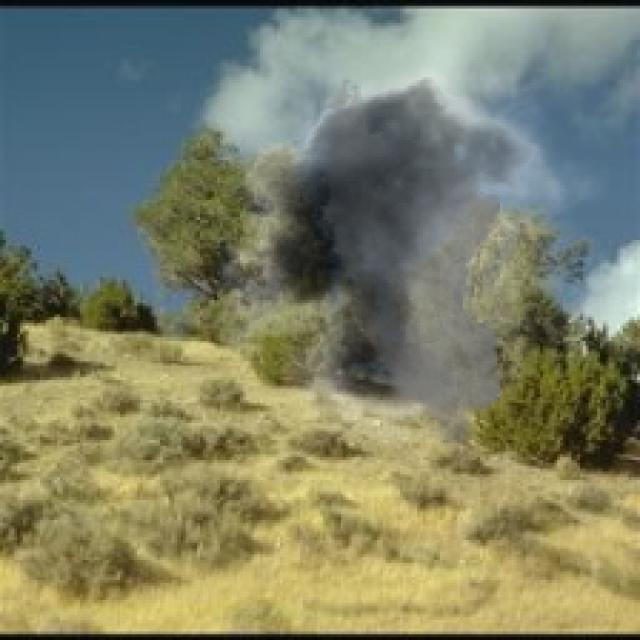smoke: (197, 43, 612, 448)
